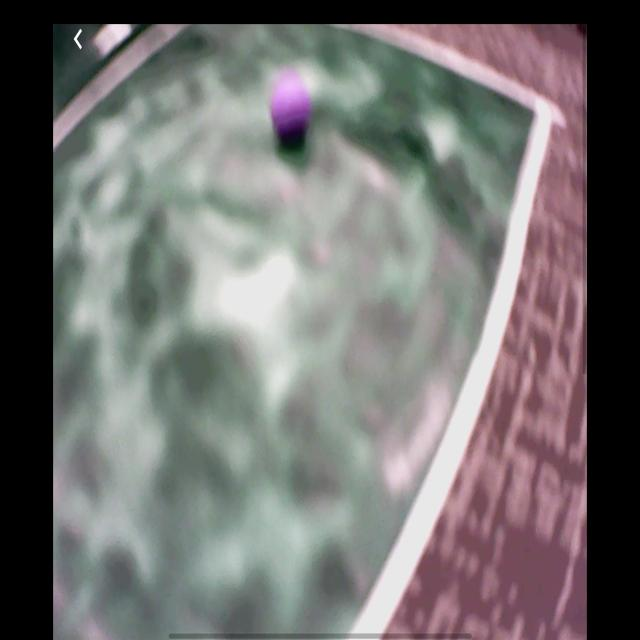ball: (270, 70, 313, 153)
